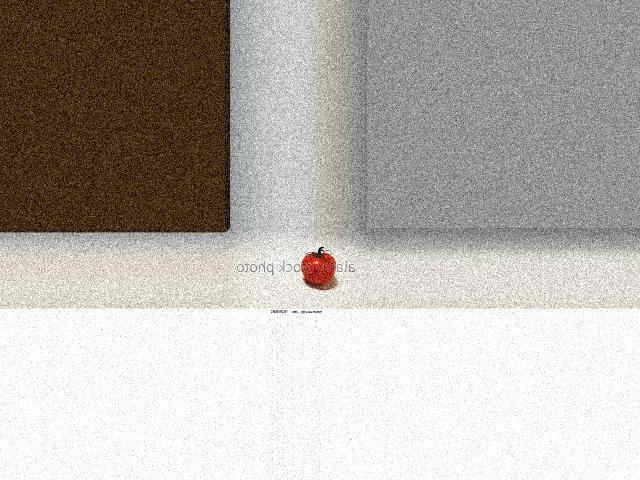tomato: (300, 252, 335, 284)
